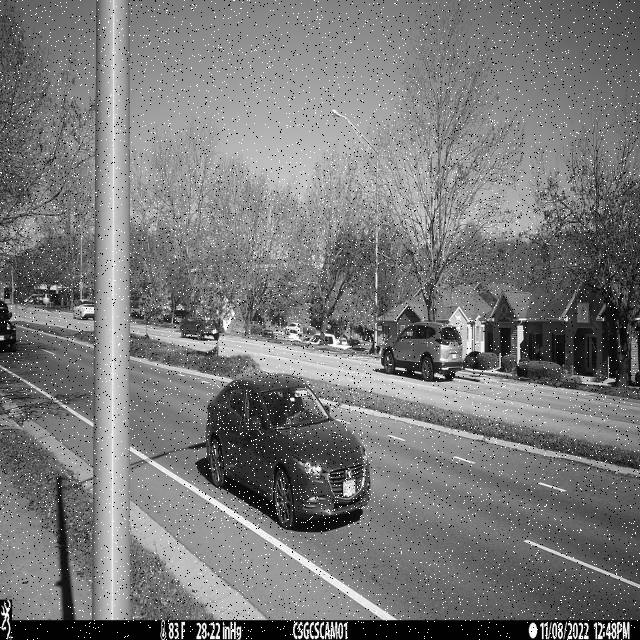Sedan: (205, 373, 372, 530)
